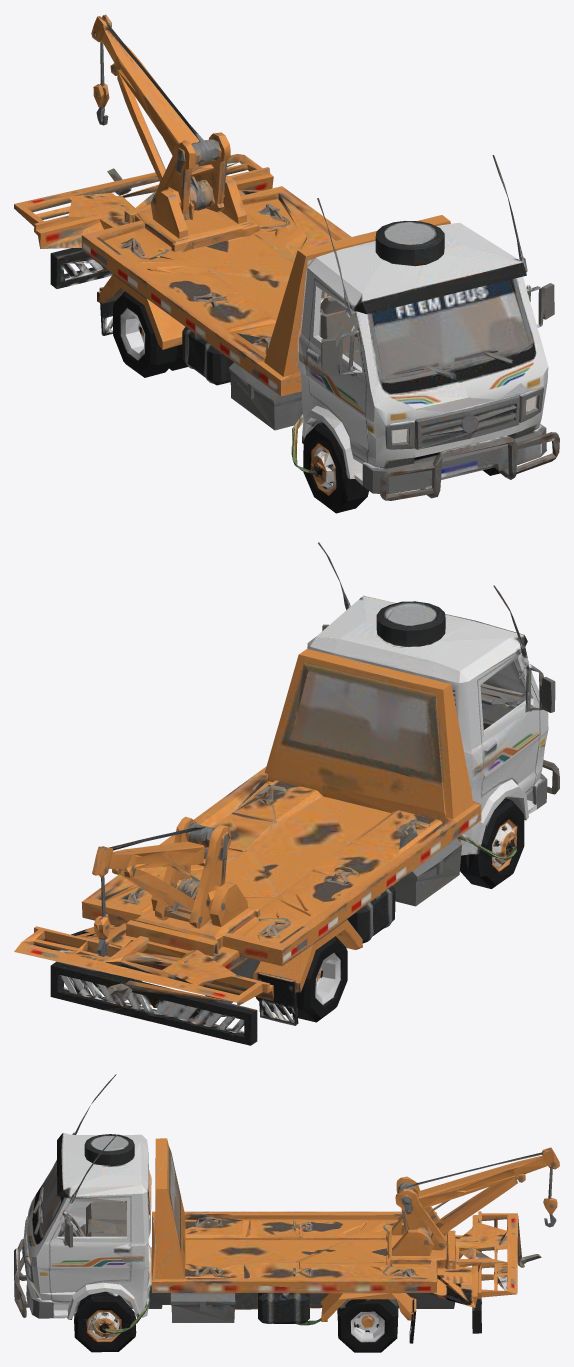
The model's file is guincho.glb.
The picture shows the model from 3 angles, top to bottom: view 1: azimuth 30°, elevation 25°; view 2: azimuth 150°, elevation 25°; view 3: azimuth 270°, elevation 25°; orthographic projection. The views are drawn at different scales.
Parts seen in each view (by area): view 1: output_unwrapped; view 2: output_unwrapped; view 3: output_unwrapped.
Part boxes in pixels (<box>): output_unwrapped: <box>14,14,559,513</box>; output_unwrapped: <box>14,542,559,1045</box>; output_unwrapped: <box>14,1074,559,1352</box>.
Size of the model in its own units: 2.98 by 3.69 by 8.41.
Materials: 1 (1 with a texture image).
